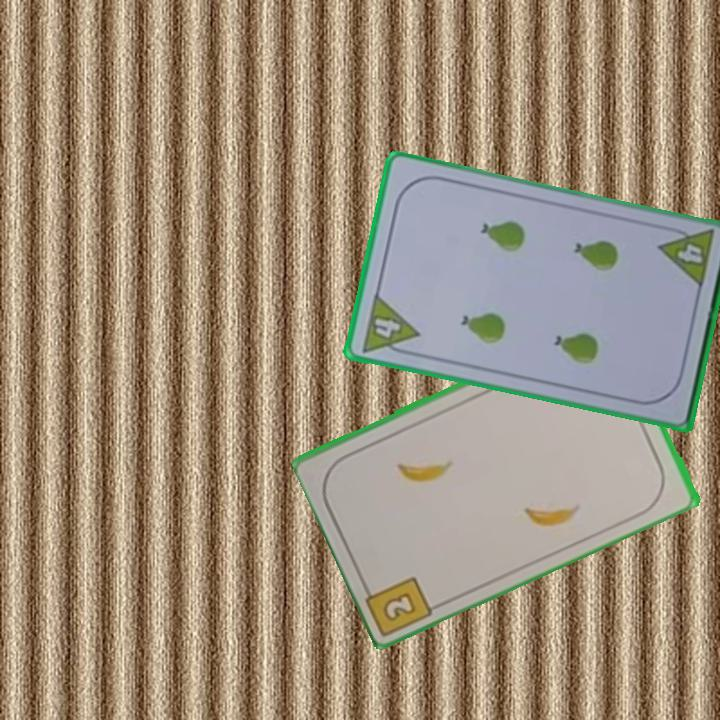2b: (360, 572, 438, 636)
4p: (358, 290, 422, 360), (655, 222, 717, 292)
